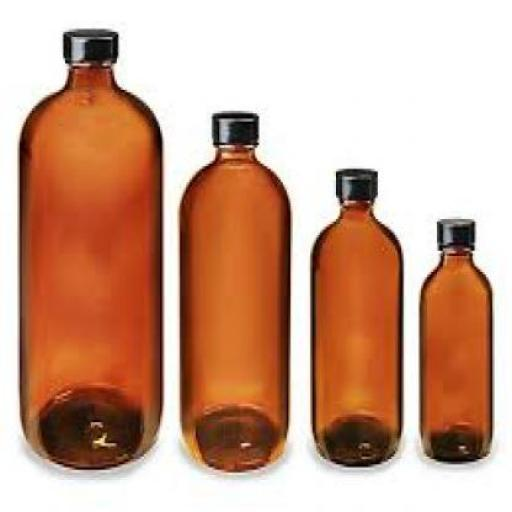glass: (20, 61, 162, 467), (176, 145, 287, 470), (309, 196, 401, 464), (418, 246, 492, 459)
metal: (61, 24, 115, 63), (209, 108, 257, 146), (334, 166, 376, 201), (435, 216, 475, 246)
